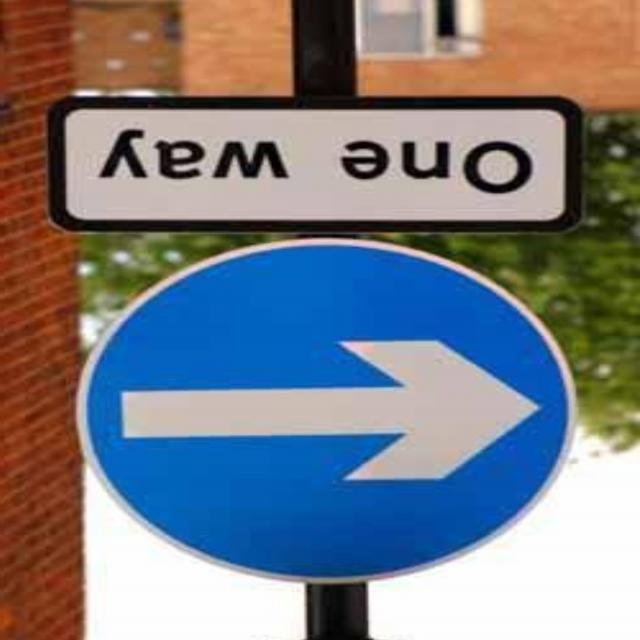Turn Right: (56, 243, 569, 583)
